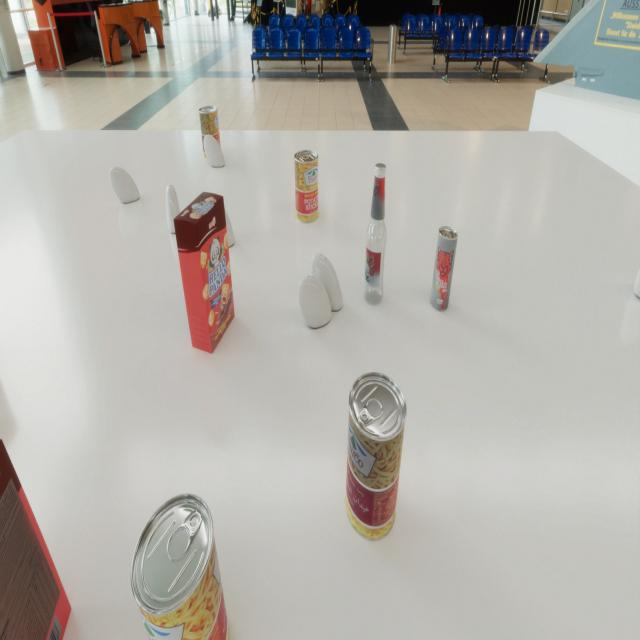Bottle: (363, 163, 387, 305)
HelloPanda: (173, 192, 234, 354)
Potato_sticks: (131, 493, 230, 640), (345, 372, 407, 541), (294, 150, 319, 223), (198, 106, 222, 160)
Rita_zero_sugar: (430, 226, 458, 312)
Salt: (310, 253, 343, 311), (298, 275, 332, 328), (209, 198, 235, 247), (109, 166, 140, 202), (165, 184, 182, 233), (204, 135, 225, 167)
